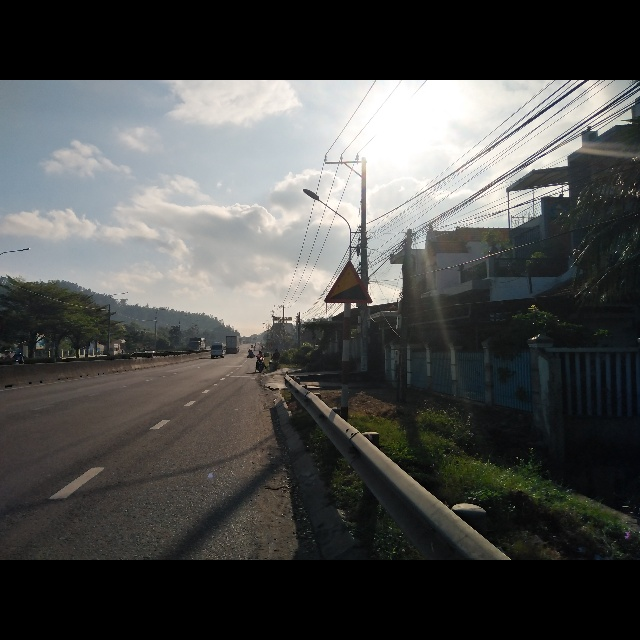Dốc lên nguy hiểm: (323, 260, 371, 304)
